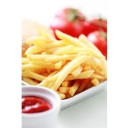frenchfries: (20, 30, 111, 93)
